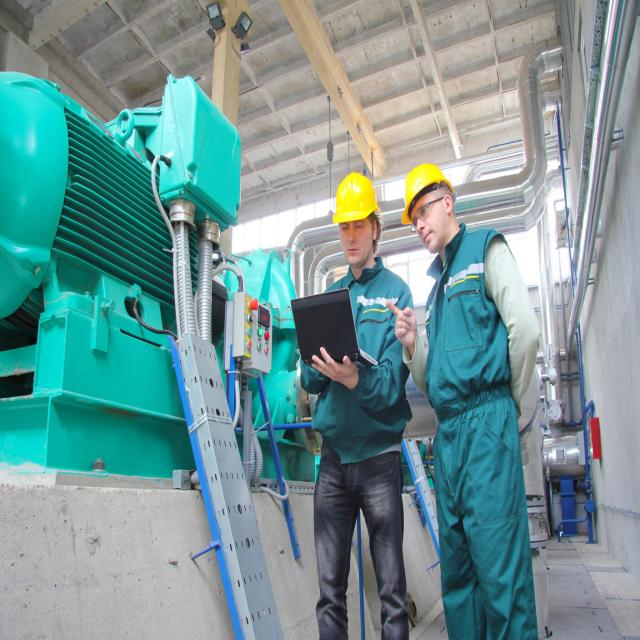Safety-Helmet: (0, 67, 73, 274), (399, 159, 455, 223), (329, 168, 381, 224)
